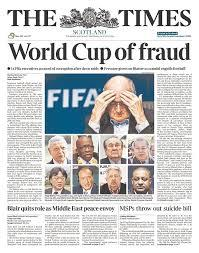Printing industry: (1, 7, 199, 253)
